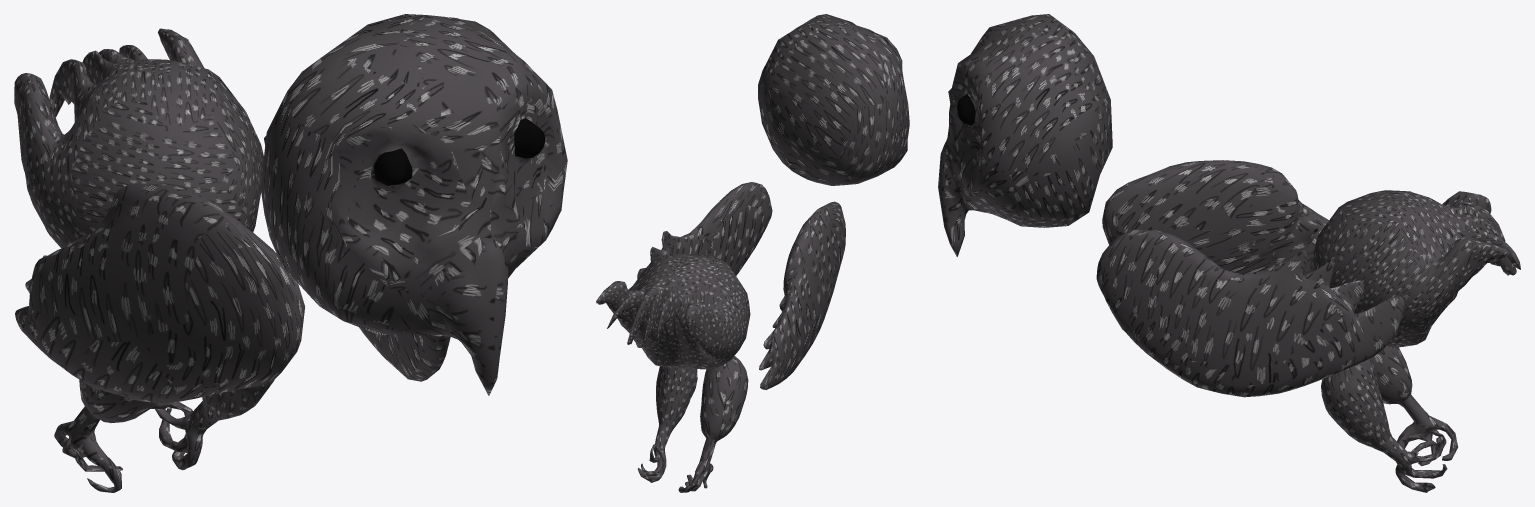
Rendered from ch11_owl.glb.
3 renders of one model, left to right at view 1: azimuth 30°, elevation 25°; view 2: azimuth 150°, elevation 25°; view 3: azimuth 270°, elevation 25°, orthographic. The views are drawn at different scales.
Parts seen in each view (by area): view 1: _h11a, _b111, _r111, _r113, _r112, _b112; view 2: _h11a, _r111, _b111, _b112, _r113, _r112; view 3: _b112, _h11a, _r111, _b111, _r112, _r113.
Boxes of the visible parts, left/top/right/bottom form: _h11a: left=260, top=14, right=567, bottom=395; _b111: left=15, top=183, right=304, bottom=403; _r111: left=14, top=28, right=263, bottom=248; _r113: left=54, top=380, right=157, bottom=492; _r112: left=151, top=379, right=274, bottom=470; _b112: left=264, top=136, right=450, bottom=381; _h11a: left=758, top=14, right=909, bottom=185; _r111: left=596, top=254, right=750, bottom=369; _b111: left=759, top=201, right=845, bottom=389; _b112: left=637, top=182, right=772, bottom=278; _r113: left=678, top=356, right=748, bottom=492; _r112: left=638, top=366, right=697, bottom=482; _b112: left=1096, top=229, right=1404, bottom=397; _h11a: left=938, top=14, right=1112, bottom=256; _r111: left=1309, top=190, right=1520, bottom=347; _b111: left=1102, top=160, right=1328, bottom=275; _r112: left=1321, top=358, right=1447, bottom=492; _r113: left=1371, top=347, right=1458, bottom=466.
Bounding box in the file's own units: 0.4654 × 1.02 × 1.21.
2 materials, 1 textured.
